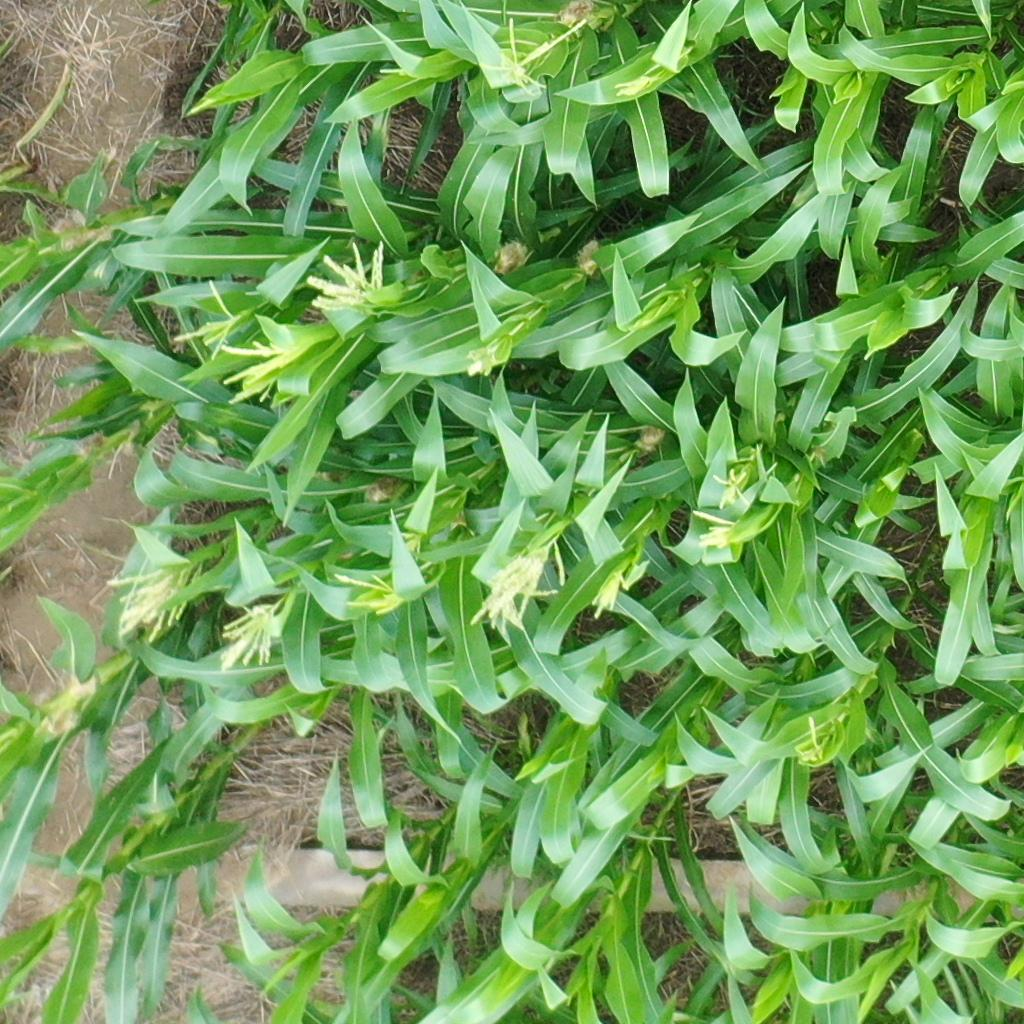Tassel: (470, 9, 587, 102), (466, 529, 567, 632), (93, 566, 187, 646), (307, 238, 395, 315), (219, 324, 300, 405), (167, 278, 243, 360), (215, 603, 282, 668), (331, 568, 406, 615), (686, 505, 741, 553), (709, 464, 757, 509), (590, 567, 630, 620), (792, 713, 830, 768), (386, 524, 430, 560), (610, 72, 659, 99)
